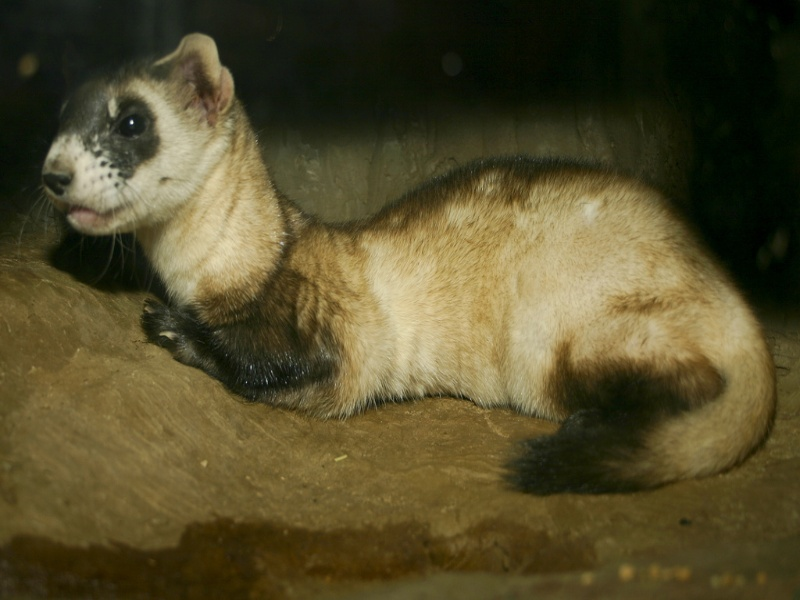minkish: (37, 30, 781, 491)
